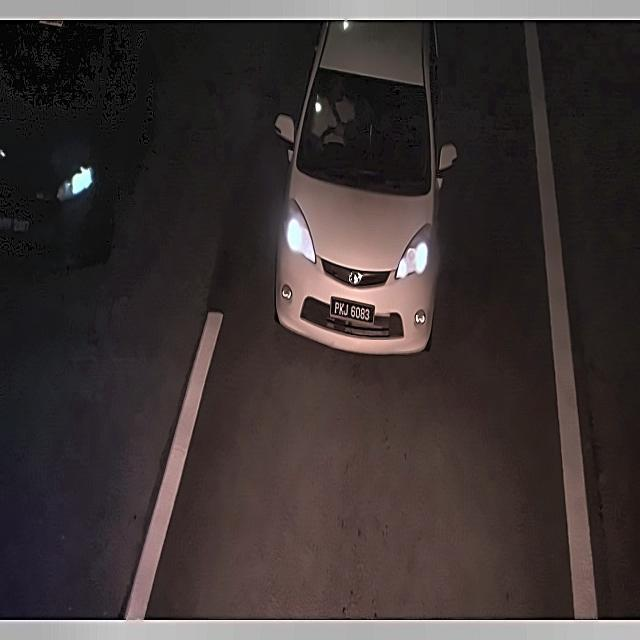car: (325, 288, 387, 332), (2, 212, 35, 238)
